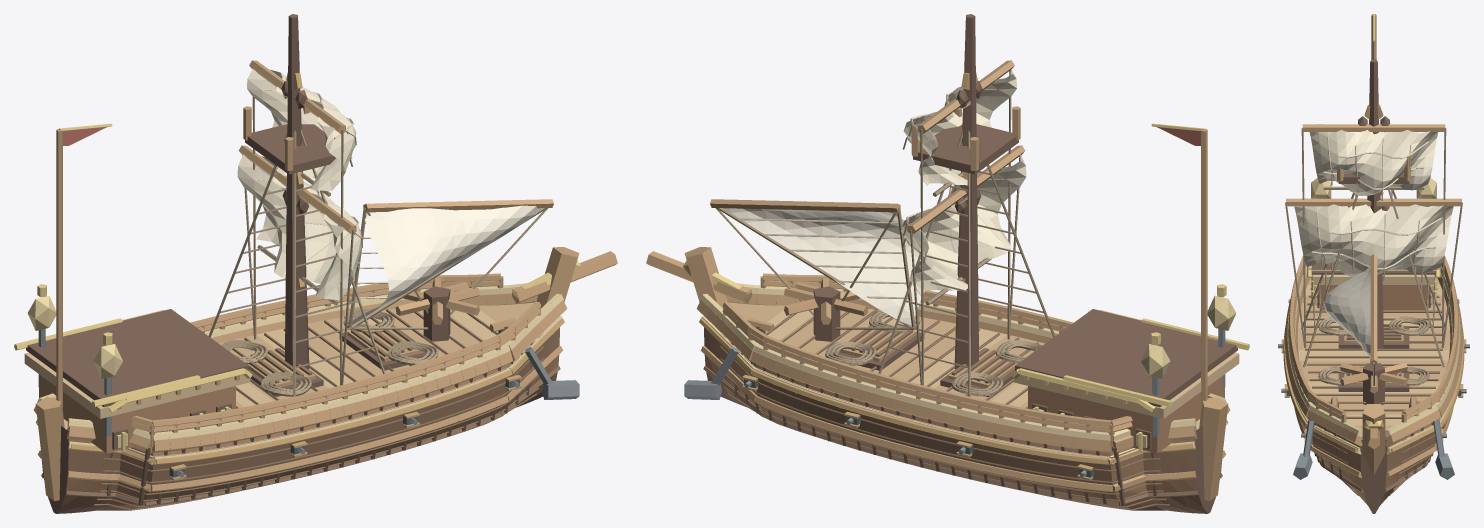
The model's file is cog-v5-mobile.glb.
3 renders of one model, left to right at view 1: azimuth 30°, elevation 25°; view 2: azimuth 150°, elevation 25°; view 3: azimuth 270°, elevation 25°, orthographic. The views are drawn at different scales.
Parts seen in each view (by area): view 1: cog_hull_wood, cog_deck_darkwood, cog_sails_sail, cog_hull_hull, cog_sails_sailbright, cog_railings_wood, cog_hull_seam, cog_masts_darkwood, cog_hull_pale, cog_hull_hull2, cog_hull_deck, cog_rigging_rope (+17 smaller); view 2: cog_hull_wood, cog_deck_darkwood, cog_sails_sailbright, cog_hull_hull, cog_sails_sail, cog_railings_wood, cog_hull_seam, cog_masts_darkwood, cog_hull_pale, cog_hull_hull2, cog_hull_deck, cog_rigging_rope (+18 smaller); view 3: cog_sails_sail, cog_hull_wood, cog_hull_deck, cog_hull_seam, cog_rigging_wood, cog_hull_decklight, cog_railings_wood, cog_sails_sailbright, cog_rigging_rope, cog_hull_pale, cog_masts_darkwood, cog_hull_hull (+18 smaller).
Boxes of the visible parts, x1,y1,x2,y2 form: cog_hull_wood: [33, 247, 617, 501]; cog_deck_darkwood: [26, 309, 248, 449]; cog_sails_sail: [237, 69, 361, 300]; cog_hull_hull: [61, 327, 559, 510]; cog_sails_sailbright: [351, 205, 543, 324]; cog_railings_wood: [131, 273, 541, 446]; cog_hull_seam: [41, 309, 560, 510]; cog_masts_darkwood: [245, 14, 335, 368]; cog_hull_pale: [36, 283, 563, 463]; cog_hull_hull2: [66, 302, 559, 502]; cog_hull_deck: [219, 302, 534, 407]; cog_rigging_rope: [242, 97, 548, 385]; cog_hull_wood: [646, 247, 1230, 501]; cog_deck_darkwood: [1015, 309, 1237, 449]; cog_sails_sailbright: [724, 208, 924, 325]; cog_hull_hull: [704, 327, 1202, 510]; cog_sails_sail: [901, 69, 1026, 296]; cog_railings_wood: [722, 273, 1132, 446]; cog_hull_seam: [703, 309, 1222, 510]; cog_masts_darkwood: [913, 14, 1018, 368]; cog_hull_pale: [700, 283, 1227, 464]; cog_hull_hull2: [704, 302, 1197, 502]; cog_hull_deck: [729, 302, 1044, 407]; cog_rigging_rope: [715, 70, 1021, 385]; cog_sails_sail: [1294, 124, 1453, 277]; cog_hull_wood: [1285, 273, 1462, 477]; cog_hull_deck: [1297, 278, 1450, 429]; cog_hull_seam: [1299, 288, 1448, 495]; cog_rigging_wood: [1286, 124, 1461, 365]; cog_hull_decklight: [1298, 285, 1449, 425]; cog_railings_wood: [1289, 255, 1458, 422]; cog_sails_sailbright: [1323, 266, 1370, 358]; cog_rigging_rope: [1285, 128, 1462, 385]; cog_hull_pale: [1288, 266, 1459, 454]; cog_masts_darkwood: [1338, 59, 1409, 350]; cog_hull_hull: [1302, 423, 1445, 504].
Size of the model in its own units: 33.32 by 24.84 by 11.99.
